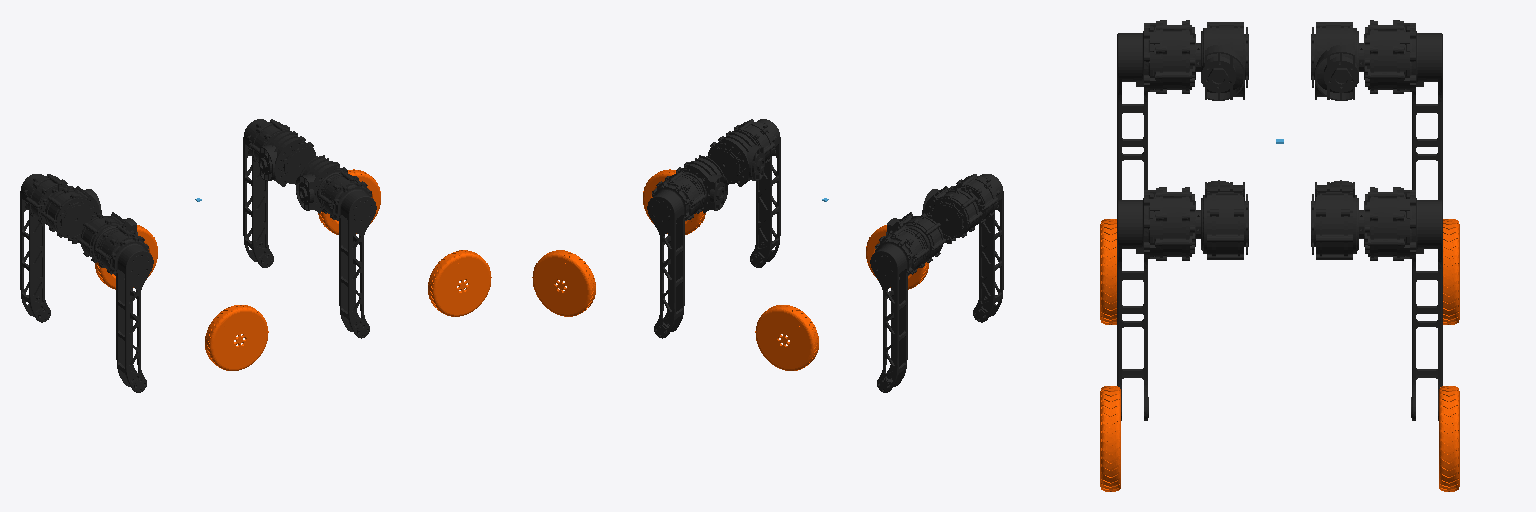
URDF robot description (robot):
<?xml version="1.0" ?>
<!-- =================================================================================== -->
<!-- |    This document was autogenerated by xacro from robot.xacro                    | -->
<!-- |    EDITING THIS FILE BY HAND IS NOT RECOMMENDED                                 | -->
<!-- =================================================================================== -->
<robot name="robot">
  <material name="black">
    <color rgba="0.0 0.0 0.0 1.0"/>
  </material>
  <material name="blue">
    <color rgba="0.0 0.0 0.8 1.0"/>
  </material>
  <material name="green">
    <color rgba="0.0 0.8 0.0 1.0"/>
  </material>
  <material name="grey">
    <color rgba="0.2 0.2 0.2 1.0"/>
  </material>
  <material name="silver">
    <color rgba="0.9137254901960784 0.9137254901960784 0.8470588235294118 1.0"/>
  </material>
  <material name="orange">
    <color rgba="1.0 0.4235294117647059 0.0392156862745098 1.0"/>
  </material>
  <material name="brown">
    <color rgba="0.8705882352941177 0.8117647058823529 0.7647058823529411 1.0"/>
  </material>
  <material name="red">
    <color rgba="0.8 0.0 0.0 1.0"/>
  </material>
  <material name="white">
    <color rgba="1.0 1.0 1.0 1.0"/>
  </material>
  <material name="body">
    <color rgba="0.73 0.73 0.73 1.0"/>
  </material>
  <material name="lidar">
    <color rgba="0.25 0.7 1 1.0"/>
  </material>
  <link name="base">
    <visual>
      <origin rpy="0 0 0" xyz="0 0 0"/>
      <geometry>
        <mesh filename="../meshes/trunk.STL" scale="1 1 1"/>
      </geometry>
      <material name="body"/>
    </visual>
    <collision>
      <origin rpy="0 0 0" xyz="0 0 0"/>
      <geometry>
        <box size="0.423 0.404 0.252"/>
      </geometry>
    </collision>
    <inertial>
      <origin rpy="0 0 0" xyz="-0.00334 -0.00038 0.0139"/>
      <mass value="64.6"/>
      <inertia ixx="0.7333" ixy="0.00445" ixz="-0.026" iyy="1.45752" iyz="0.0006" izz="1.807"/>
    </inertial>
  </link>
  <!-- Imu is fixed to the base link -->
  <joint name="robot_imu_joint" type="fixed">
    <origin rpy="0. 0. 0." xyz="0. 0. 0."/>
    <parent link="base"/>
    <child link="robot_imu"/>
  </joint>
  <!-- Imu link -->
  <link name="robot_imu">
    <inertial>
      <mass value="0.01"/>
      <origin rpy="0 0 0" xyz="0 0 0"/>
      <inertia ixx="0.000001" ixy="0" ixz="0" iyy="0.000001" iyz="0" izz="0.000001"/>
    </inertial>
    <visual>
      <origin rpy="0 0 0" xyz="0 0 0"/>
      <geometry>
        <box size="0.015 0.015 0.004"/>
      </geometry>
    </visual>
    <material name="orange">
      <color rgba="255 108 10 255"/>
    </material>
  </link>
 
  <joint name="FR_hip_joint" type="revolute">
    <origin rpy="0 0 0" xyz="0.289 -0.1175 0.0005"/>
    <parent link="base"/>
    <child link="FR_hip"/>
    <axis xyz="1 0 0"/>
    <dynamics damping="0" friction="0"/>
    <limit effort="320" lower="-0.87" upper="0.87" velocity="23"/>
  </joint>
  <link name="FR_hip">
    <visual>
      <geometry>
        <mesh filename="../meshes/hip_mirror.STL" scale="1 1 1"/>
      </geometry>
      <material name="grey"/>
    </visual>
    <inertial>
      <origin rpy="0 0 0" xyz="0.0666 0.0083 0.0042"/>
      <mass value="3.8"/>
      <inertia ixx="0.00896" ixy="0.00208" ixz="0.00096" iyy="0.03066" iyz="0.000202" izz="0.02798"/>
    </inertial>
  </link>
  <joint name="FR_thigh_joint" type="revolute">
    <origin rpy="0 0 0" xyz="0.088 -0.16763 0"/>
    <parent link="FR_hip"/>
    <child link="FR_thigh"/>
    <axis xyz="0 1 0"/>
    <dynamics damping="0" friction="0"/>
    <limit effort="320" lower="-1.64" upper="4.69" velocity="23"/>
  </joint>
  <link name="FR_thigh">
    <visual>
      <origin rpy="0 0 0" xyz="0 0 0"/>
      <geometry>
        <mesh filename="../meshes/thigh_mirror.STL" scale="1 1 1"/>
      </geometry>
      <material name="grey"/>
    </visual>
    <collision>
      <origin rpy="0 1.5707963267948966 0" xyz="-0.01 0 -0.16"/>
      <geometry>
        <box size="0.27 0.06 0.08"/>
      </geometry>
    </collision>
    <inertial>
      <origin rpy="0 0 0" xyz="-0.002 0.064 -0.0263"/>
      <mass value="4.66"/>
      <inertia ixx="0.06668" ixy="0" ixz="0.00197" iyy="0.0463" iyz="-0.00057" izz="0.03168"/>
    </inertial>
  </link>
  <joint name="FR_calf_joint" type="revolute">
    <origin rpy="0 0 0" xyz="0 0.004 -0.32"/>
    <parent link="FR_thigh"/>
    <child link="FR_calf"/>
    <axis xyz="0 1 0"/>
    <dynamics damping="0" friction="0"/>
    <limit effort="320" lower="-2.82" upper="-0.43" velocity="14"/>
  </joint>
  <link name="FR_calf">
    <visual>
      <origin rpy="0 0 0" xyz="0 0 0"/>
      <geometry>
        <mesh filename="../meshes/calf.STL" scale="1 1 1"/>
      </geometry>
      <material name="grey"/>
    </visual>
    <collision>
      <origin rpy="0 1.5707963267948966 0" xyz="0 0 -0.16"/>
      <geometry>
        <box size="0.27 0.010000000000000002 0.05"/>
      </geometry>
    </collision>
    <inertial>
      <origin rpy="0 0 0" xyz="0.00434 0.00778 -0.2466"/>
      <mass value="3.54"/>
      <inertia ixx="0.2887" ixy="0" ixz="-0.00393" iyy="0.2885" iyz="-0.00946" izz="0.00516"/>
    </inertial>
  </link>
  <joint name="FR_foot_joint" type="revolute">
    <origin rpy="0 0 0" xyz="0 -0.04163 -0.32"/>
    <parent link="FR_calf"/>
    <child link="FR_foot"/>
    <axis xyz="0 1 0"/>
    <dynamics damping="0" friction="0"/>
    <limit effort="50" lower="-99999" upper="99999" velocity="10"/>
  </joint>
  <link name="FR_foot">
    <visual>
      <origin rpy="0 0 0" xyz="0 0 0"/>
      <geometry>
        <mesh filename="../meshes/wheel_mirror.STL" scale="1 1 1"/>
      </geometry>
      <material name="orange"/>
    </visual>
    <collision>
      <origin rpy="1.5707963267948966 0 0" xyz="0 0 0"/>
      <geometry>
        <cylinder length="0.04" radius="0.1005"/>
      </geometry>
    </collision>
    <inertial>
      <origin rpy="0 0 0" xyz="0.0 0.00298 0.0"/>
      <mass value="1"/>
      <inertia ixx="0.0033" ixy="0.0" ixz="0.0" iyy="0.0063" iyz="0.0" izz="0.0033"/>
    </inertial>
  </link>
 
  <joint name="FL_hip_joint" type="revolute">
    <origin rpy="0 0 0" xyz="0.289 0.1175 0.0005"/>
    <parent link="base"/>
    <child link="FL_hip"/>
    <axis xyz="1 0 0"/>
    <dynamics damping="0" friction="0"/>
    <limit effort="320" lower="-0.87" upper="0.87" velocity="23"/>
  </joint>
  <link name="FL_hip">
    <visual>
      <origin rpy="0 0 0" xyz="0 0 0"/>
      <geometry>
        <mesh filename="../meshes/hip.STL" scale="1 1 1"/>
      </geometry>
      <material name="grey"/>
    </visual>
    <inertial>
      <origin rpy="0 0 0" xyz="0.0666 -0.0083 0.0042"/>
      <mass value="3.8"/>
      <inertia ixx="0.00896" ixy="-0.00208" ixz="0.00096" iyy="0.03066" iyz="-0.000202" izz="0.02798"/>
    </inertial>
  </link>
  <joint name="FL_thigh_joint" type="revolute">
    <origin rpy="0 0 0" xyz="0.088 0.16763 0"/>
    <parent link="FL_hip"/>
    <child link="FL_thigh"/>
    <axis xyz="0 1 0"/>
    <dynamics damping="0" friction="0"/>
    <limit effort="320" lower="-1.64" upper="4.69" velocity="23"/>
  </joint>
  <link name="FL_thigh">
    <visual>
      <origin rpy="0 0 0" xyz="0 0 0"/>
      <geometry>
        <mesh filename="../meshes/thigh.STL" scale="1 1 1"/>
      </geometry>
      <material name="grey"/>
    </visual>
    <collision>
      <origin rpy="0 1.5707963267948966 0" xyz="-0.01 0 -0.16"/>
      <geometry>
        <box size="0.27 0.06 0.08"/>
      </geometry>
    </collision>
    <inertial>
      <origin rpy="0 0 0" xyz="-0.002 -0.064 -0.0263"/>
      <mass value="4.66"/>
      <inertia ixx="0.06668" ixy="0" ixz="0.00197" iyy="0.0463" iyz="0.00057" izz="0.03168"/>
    </inertial>
  </link>
  <joint name="FL_calf_joint" type="revolute">
    <origin rpy="0 0 0" xyz="0 -0.004 -0.32"/>
    <parent link="FL_thigh"/>
    <child link="FL_calf"/>
    <axis xyz="0 1 0"/>
    <dynamics damping="0" friction="0"/>
    <limit effort="320" lower="-2.82" upper="-0.43" velocity="14"/>
  </joint>
  <link name="FL_calf">
    <visual>
      <origin rpy="0 0 0" xyz="0 0 0"/>
      <geometry>
        <mesh filename="../meshes/calf.STL" scale="1 1 1"/>
      </geometry>
      <material name="grey"/>
    </visual>
    <collision>
      <origin rpy="0 1.5707963267948966 0" xyz="0 0 -0.16"/>
      <geometry>
        <box size="0.27 0.010000000000000002 0.05"/>
      </geometry>
    </collision>
    <inertial>
      <origin rpy="0 0 0" xyz="0.00434 0.00778 -0.2466"/>
      <mass value="3.54"/>
      <inertia ixx="0.2887" ixy="0" ixz="-0.00393" iyy="0.2885" iyz="-0.00946" izz="0.00516"/>
    </inertial>
  </link>
  <joint name="FL_foot_joint" type="revolute">
    <origin rpy="0 0 0" xyz="0 0.04163 -0.32"/>
    <parent link="FL_calf"/>
    <child link="FL_foot"/>
    <axis xyz="0 1 0"/>
    <dynamics damping="0" friction="0"/>
    <limit effort="50" lower="-99999" upper="99999" velocity="10"/>
  </joint>
  <link name="FL_foot">
    <visual>
      <origin rpy="0 0 0" xyz="0 0 0"/>
      <geometry>
        <mesh filename="../meshes/wheel.STL" scale="1 1 1"/>
      </geometry>
      <material name="orange"/>
    </visual>
    <collision>
      <origin rpy="1.5707963267948966 0 0" xyz="0 0 0"/>
      <geometry>
        <cylinder length="0.04" radius="0.1005"/>
      </geometry>
    </collision>
    <inertial>
      <origin rpy="0 0 0" xyz="0.0 0.00298 0.0"/>
      <mass value="1"/>
      <inertia ixx="0.0033" ixy="0.0" ixz="0.0" iyy="0.0063" iyz="0.0" izz="0.0033"/>
    </inertial>
  </link>
  
  <joint name="RR_hip_joint" type="revolute">
    <origin rpy="0 0 0" xyz="-0.289 -0.1175 0.0005"/>
    <parent link="base"/>
    <child link="RR_hip"/>
    <axis xyz="1 0 0"/>
    <dynamics damping="0" friction="0"/>
    <limit effort="320" lower="-0.87" upper="0.87" velocity="23"/>
  </joint>
  <link name="RR_hip">
    <visual>
      <origin rpy="0 3.141592653589793 0" xyz="0 0 0"/>
      <geometry>
        <mesh filename="../meshes/hip_mirror.STL" scale="1 1 1"/>
      </geometry>
      <material name="grey"/>
    </visual>
    <inertial>
      <origin rpy="0 0 0" xyz="-0.0666 0.0083 0.0042"/>
      <mass value="3.8"/>
      <inertia ixx="0.00896" ixy="-0.00208" ixz="-0.00096" iyy="0.03066" iyz="0.000202" izz="0.02798"/>
    </inertial>
  </link>
  <joint name="RR_thigh_joint" type="revolute">
    <origin rpy="0 0 0" xyz="-0.088 -0.16763 0"/>
    <parent link="RR_hip"/>
    <child link="RR_thigh"/>
    <axis xyz="0 1 0"/>
    <dynamics damping="0" friction="0"/>
    <limit effort="320" lower="-1.64" upper="4.69" velocity="23"/>
  </joint>
  <link name="RR_thigh">
    <visual>
      <origin rpy="0 0 0" xyz="0 0 0"/>
      <geometry>
        <mesh filename="../meshes/thigh_mirror.STL" scale="1 1 1"/>
      </geometry>
      <material name="grey"/>
    </visual>
    <collision>
      <origin rpy="0 1.5707963267948966 0" xyz="-0.01 0 -0.16"/>
      <geometry>
        <box size="0.27 0.06 0.08"/>
      </geometry>
    </collision>
    <inertial>
      <origin rpy="0 0 0" xyz="-0.002 0.064 -0.0263"/>
      <mass value="4.66"/>
      <inertia ixx="0.06668" ixy="0" ixz="0.00197" iyy="0.0463" iyz="-0.00057" izz="0.03168"/>
    </inertial>
  </link>
  <joint name="RR_calf_joint" type="revolute">
    <origin rpy="0 0 0" xyz="0 0.004 -0.32"/>
    <parent link="RR_thigh"/>
    <child link="RR_calf"/>
    <axis xyz="0 1 0"/>
    <dynamics damping="0" friction="0"/>
    <limit effort="320" lower="-2.82" upper="-0.43" velocity="14"/>
  </joint>
  <link name="RR_calf">
    <visual>
      <origin rpy="0 0 0" xyz="0 0 0"/>
      <geometry>
        <mesh filename="../meshes/calf.STL" scale="1 1 1"/>
      </geometry>
      <material name="grey"/>
    </visual>
    <collision>
      <origin rpy="0 1.5707963267948966 0" xyz="0 0 -0.16"/>
      <geometry>
        <box size="0.27 0.010000000000000002 0.05"/>
      </geometry>
    </collision>
    <inertial>
      <origin rpy="0 0 0" xyz="0.00434 0.00778 -0.2466"/>
      <mass value="3.54"/>
      <inertia ixx="0.2887" ixy="0" ixz="-0.00393" iyy="0.2885" iyz="-0.00946" izz="0.00516"/>
    </inertial>
  </link>
  <joint name="RR_foot_joint" type="revolute">
    <origin rpy="0 0 0" xyz="0 -0.04163 -0.32"/>
    <parent link="RR_calf"/>
    <child link="RR_foot"/>
    <axis xyz="0 1 0"/>
    <dynamics damping="0" friction="0"/>
    <limit effort="50" lower="-99999" upper="99999" velocity="10"/>
  </joint>
  <link name="RR_foot">
    <visual>
      <origin rpy="0 0 0" xyz="0 0 0"/>
      <geometry>
        <mesh filename="../meshes/wheel_mirror.STL" scale="1 1 1"/>
      </geometry>
      <material name="orange"/>
    </visual>
    <collision>
      <origin rpy="1.5707963267948966 0 0" xyz="0 0 0"/>
      <geometry>
        <cylinder length="0.04" radius="0.1005"/>
      </geometry>
    </collision>
    <inertial>
      <origin rpy="0 0 0" xyz="0.0 0.00298 0.0"/>
      <mass value="1"/>
      <inertia ixx="0.0033" ixy="0.0" ixz="0.0" iyy="0.0063" iyz="0.0" izz="0.0033"/>
    </inertial>
  </link>
  
  <joint name="RL_hip_joint" type="revolute">
    <origin rpy="0 0 0" xyz="-0.289 0.1175 0.0005"/>
    <parent link="base"/>
    <child link="RL_hip"/>
    <axis xyz="1 0 0"/>
    <dynamics damping="0" friction="0"/>
    <limit effort="320" lower="-0.87" upper="0.87" velocity="23"/>
  </joint>
  <link name="RL_hip">
    <visual>
      <origin rpy="0 3.141592653589793 0" xyz="0 0 0"/>
      <geometry>
        <mesh filename="../meshes/hip.STL" scale="1 1 1"/>
      </geometry>
      <material name="grey"/>
    </visual>
    <inertial>
      <origin rpy="0 0 0" xyz="-0.0666 -0.0083 0.0042"/>
      <mass value="3.8"/>
      <inertia ixx="0.00896" ixy="0.00208" ixz="-0.00096" iyy="0.03066" iyz="-0.000202" izz="0.02798"/>
    </inertial>
  </link>
  <joint name="RL_thigh_joint" type="revolute">
    <origin rpy="0 0 0" xyz="-0.088 0.16763 0"/>
    <parent link="RL_hip"/>
    <child link="RL_thigh"/>
    <axis xyz="0 1 0"/>
    <dynamics damping="0" friction="0"/>
    <limit effort="320" lower="-1.64" upper="4.69" velocity="23"/>
  </joint>
  <link name="RL_thigh">
    <visual>
      <origin rpy="0 0 0" xyz="0 0 0"/>
      <geometry>
        <mesh filename="../meshes/thigh.STL" scale="1 1 1"/>
      </geometry>
      <material name="grey"/>
    </visual>
    <collision>
      <origin rpy="0 1.5707963267948966 0" xyz="-0.01 0 -0.16"/>
      <geometry>
        <box size="0.27 0.06 0.08"/>
      </geometry>
    </collision>
    <inertial>
      <origin rpy="0 0 0" xyz="-0.002 -0.064 -0.0263"/>
      <mass value="4.66"/>
      <inertia ixx="0.06668" ixy="0" ixz="0.00197" iyy="0.0463" iyz="0.00057" izz="0.03168"/>
    </inertial>
  </link>
  <joint name="RL_calf_joint" type="revolute">
    <origin rpy="0 0 0" xyz="0 -0.004 -0.32"/>
    <parent link="RL_thigh"/>
    <child link="RL_calf"/>
    <axis xyz="0 1 0"/>
    <dynamics damping="0" friction="0"/>
    <limit effort="320" lower="-2.82" upper="-0.43" velocity="14"/>
  </joint>
  <link name="RL_calf">
    <visual>
      <origin rpy="0 0 0" xyz="0 0 0"/>
      <geometry>
        <mesh filename="../meshes/calf.STL" scale="1 1 1"/>
      </geometry>
      <material name="grey"/>
    </visual>
    <collision>
      <origin rpy="0 1.5707963267948966 0" xyz="0 0 -0.16"/>
      <geometry>
        <box size="0.27 0.010000000000000002 0.05"/>
      </geometry>
    </collision>
    <inertial>
      <origin rpy="0 0 0" xyz="0.00434 0.00778 -0.2466"/>
      <mass value="3.54"/>
      <inertia ixx="0.2887" ixy="0" ixz="-0.00393" iyy="0.2885" iyz="-0.00946" izz="0.00516"/>
    </inertial>
  </link>
  <joint name="RL_foot_joint" type="revolute">
    <origin rpy="0 0 0" xyz="0 0.04163 -0.32"/>
    <parent link="RL_calf"/>
    <child link="RL_foot"/>
    <axis xyz="0 1 0"/>
    <dynamics damping="0" friction="0"/>
    <limit effort="50" lower="-99999" upper="99999" velocity="10"/>
  </joint>
  <link name="RL_foot">
    <visual>
      <origin rpy="0 0 0" xyz="0 0 0"/>
      <geometry>
        <mesh filename="../meshes/wheel.STL" scale="1 1 1"/>
      </geometry>
      <material name="orange"/>
    </visual>
    <collision>
      <origin rpy="1.5707963267948966 0 0" xyz="0 0 0"/>
      <geometry>
        <cylinder length="0.04" radius="0.1005"/>
      </geometry>
    </collision>
    <inertial>
      <origin rpy="0 0 0" xyz="0.0 0.00298 0.0"/>
      <mass value="1"/>
      <inertia ixx="0.0033" ixy="0.0" ixz="0.0" iyy="0.0063" iyz="0.0" izz="0.0033"/>
    </inertial>
  </link>
  
</robot>

--- Facts derived from the render (not from the file) ---
Views: 3 orthographic renders of the robot side by side, from view 1: azimuth 30°, elevation 25°; view 2: azimuth 150°, elevation 25°; view 3: azimuth 270°, elevation 25°.
Robot: robot — 18 links, 17 joints (16 revolute, 1 fixed); root link base; default pose: joints at zero except 4 at the middle of their limits (FR_calf_joint = -1.62, FL_calf_joint = -1.62, RR_calf_joint = -1.62, RL_calf_joint = -1.62).
Links seen in each view (by area): view 1: RR_thigh, FR_thigh, RL_thigh, FR_foot, RR_foot, FL_thigh, FL_hip, RL_hip, FR_hip, RR_hip, FL_foot, RL_foot; view 2: RL_thigh, FL_thigh, RR_thigh, FL_foot, RL_foot, FR_thigh, FR_hip, RR_hip, FL_hip, RL_hip, FR_foot, RR_foot; view 3: FR_thigh, FL_thigh, RR_thigh, RL_thigh, FR_hip, FL_hip, RR_hip, RL_hip, FR_foot, FL_foot, RR_foot, RL_foot.
Boxes of the visible links, bbox=[...] form: RR_thigh: bbox=[95, 225, 153, 392]; FR_thigh: bbox=[318, 171, 376, 338]; RL_thigh: bbox=[20, 174, 74, 322]; FR_foot: bbox=[428, 250, 491, 316]; RR_foot: bbox=[205, 305, 268, 370]; FL_thigh: bbox=[243, 119, 297, 267]; FL_hip: bbox=[258, 129, 317, 186]; RL_hip: bbox=[42, 186, 101, 243]; FR_hip: bbox=[296, 155, 347, 213]; RR_hip: bbox=[78, 212, 137, 263]; FL_foot: bbox=[318, 169, 380, 234]; RL_foot: bbox=[95, 225, 157, 289]; RL_thigh: bbox=[870, 225, 928, 392]; FL_thigh: bbox=[647, 171, 705, 338]; RR_thigh: bbox=[949, 174, 1003, 322]; FL_foot: bbox=[532, 250, 595, 316]; RL_foot: bbox=[755, 305, 818, 370]; FR_thigh: bbox=[726, 119, 780, 267]; FR_hip: bbox=[706, 129, 765, 186]; RR_hip: bbox=[922, 186, 981, 243]; FL_hip: bbox=[676, 155, 727, 213]; RL_hip: bbox=[886, 212, 945, 263]; FR_foot: bbox=[643, 169, 705, 234]; RR_foot: bbox=[866, 225, 928, 289]; FR_thigh: bbox=[1117, 187, 1200, 420]; FL_thigh: bbox=[1359, 187, 1442, 420]; RR_thigh: bbox=[1117, 20, 1200, 200]; RL_thigh: bbox=[1359, 20, 1442, 200]; FR_hip: bbox=[1201, 180, 1248, 259]; FL_hip: bbox=[1311, 180, 1358, 259]; RR_hip: bbox=[1201, 22, 1248, 100]; RL_hip: bbox=[1311, 22, 1358, 100]; FR_foot: bbox=[1100, 386, 1120, 491]; FL_foot: bbox=[1439, 386, 1459, 491]; RR_foot: bbox=[1100, 219, 1116, 324]; RL_foot: bbox=[1443, 219, 1459, 324].
Size in the robot's own frame: 1.25 by 0.6855 by 0.4919 metres.
12 mesh visuals loaded from 8 distinct referenced files (6 binary STL); not drawn: 5 (reference not matched to a file when rendering).